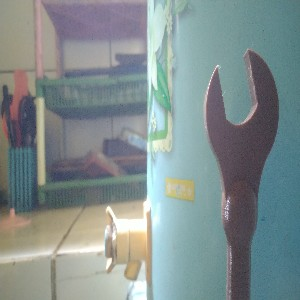spanner: (204, 48, 280, 300)
